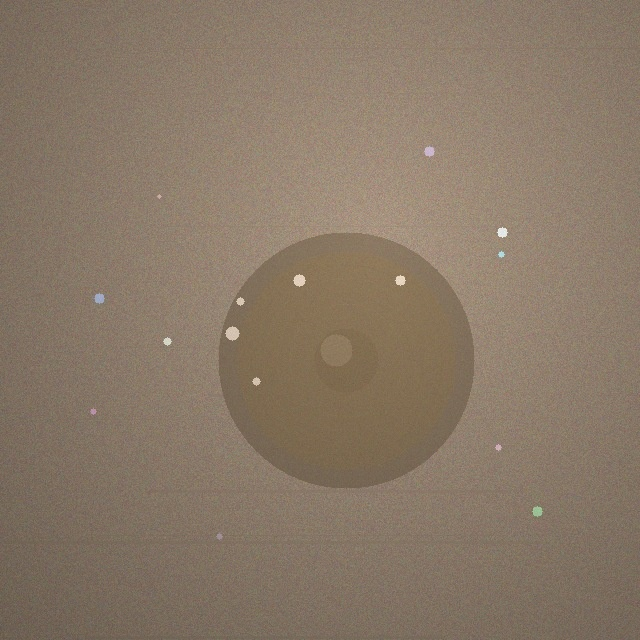overburn: (218, 232, 474, 488)
